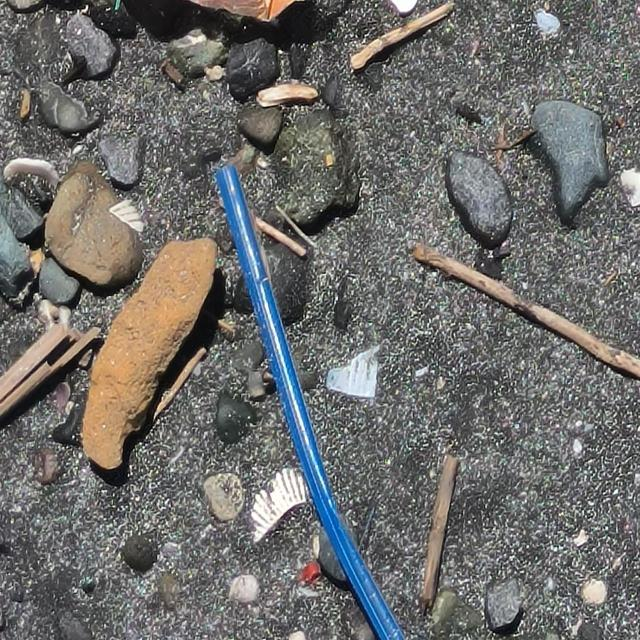plastic_waste: (214, 160, 407, 640)
